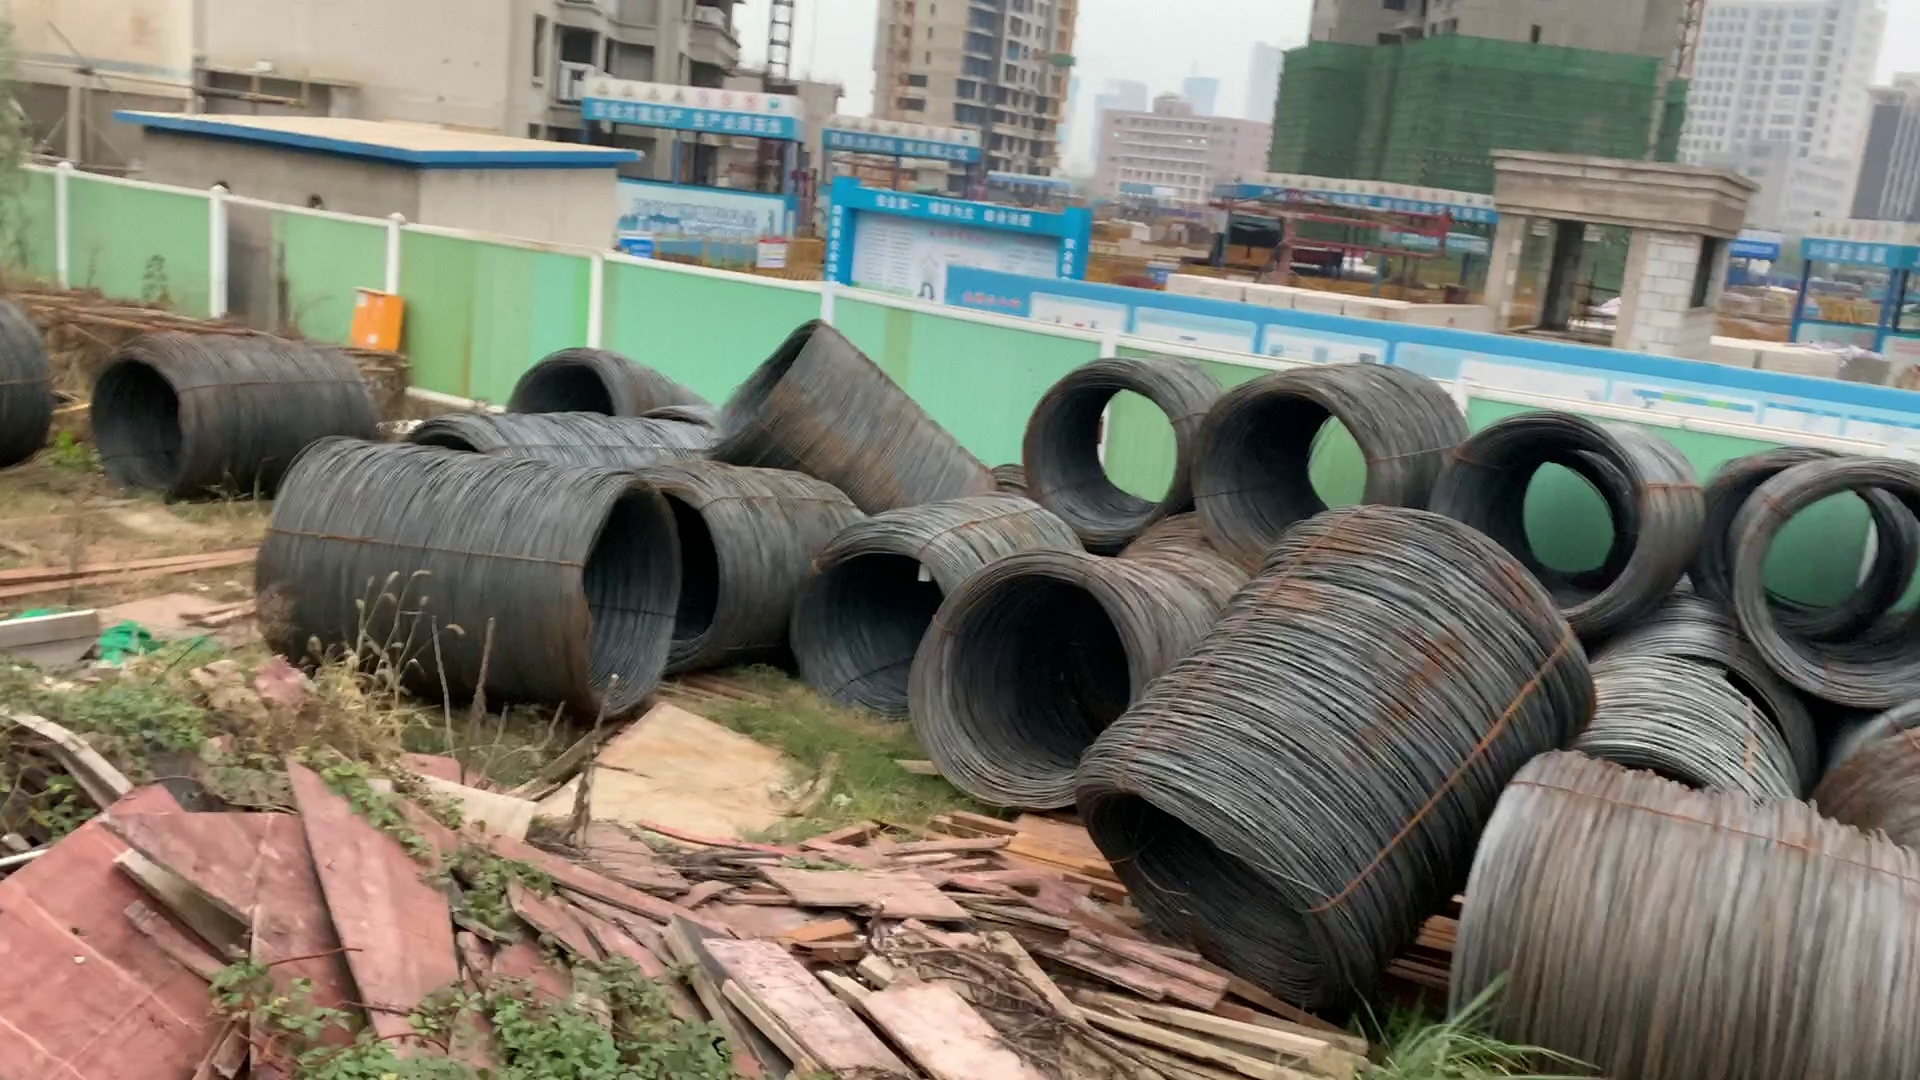coil: (1054, 774, 1360, 1015), (913, 556, 1135, 796), (1429, 425, 1648, 629), (1754, 463, 1920, 717), (1189, 378, 1385, 568), (1018, 360, 1185, 538), (790, 531, 953, 713), (574, 479, 694, 716), (613, 477, 735, 679), (79, 352, 199, 502), (696, 320, 824, 448), (504, 352, 629, 429)
